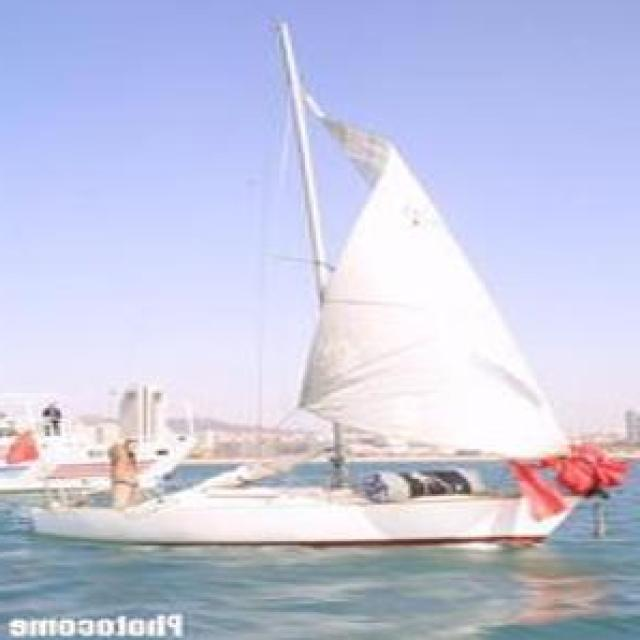passenger ship: (0, 393, 189, 492)
sailboat: (23, 19, 589, 545)
